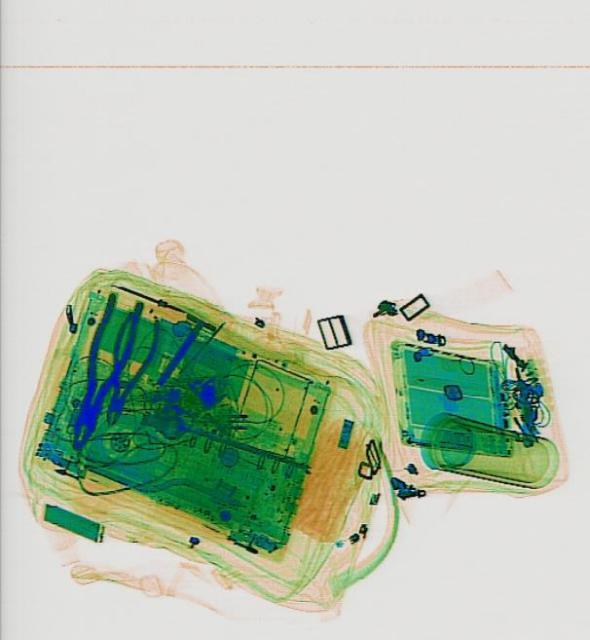Pliers: (53, 288, 145, 457), (88, 307, 163, 429)
